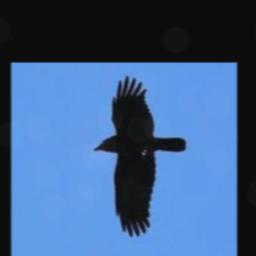Crow: (94, 75, 185, 237)
